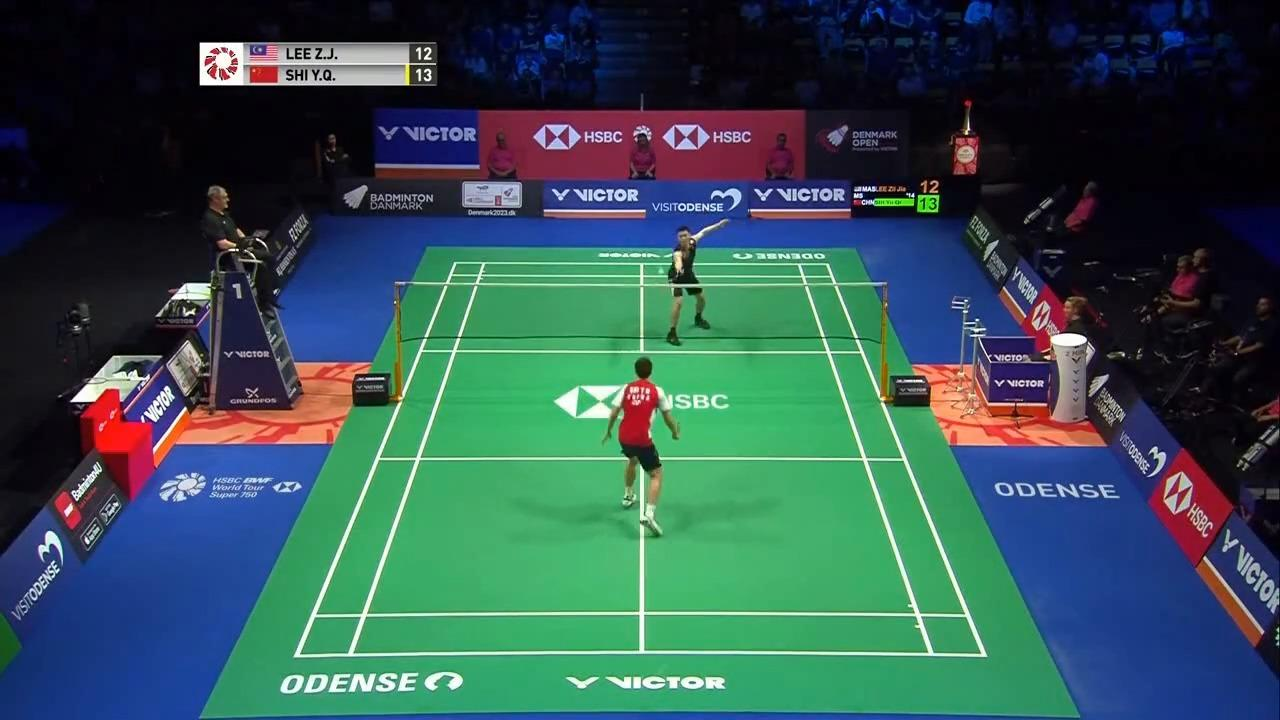shuttle: (657, 266, 664, 275)
